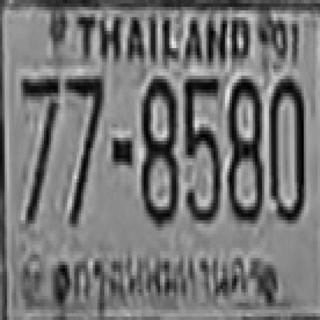N00: (269, 76, 304, 220)
N05: (183, 76, 220, 220)
N07: (17, 74, 59, 222), (65, 72, 102, 224), (19, 74, 60, 177)
N08: (139, 76, 176, 224), (225, 76, 262, 220)
P04: (69, 244, 266, 311)
